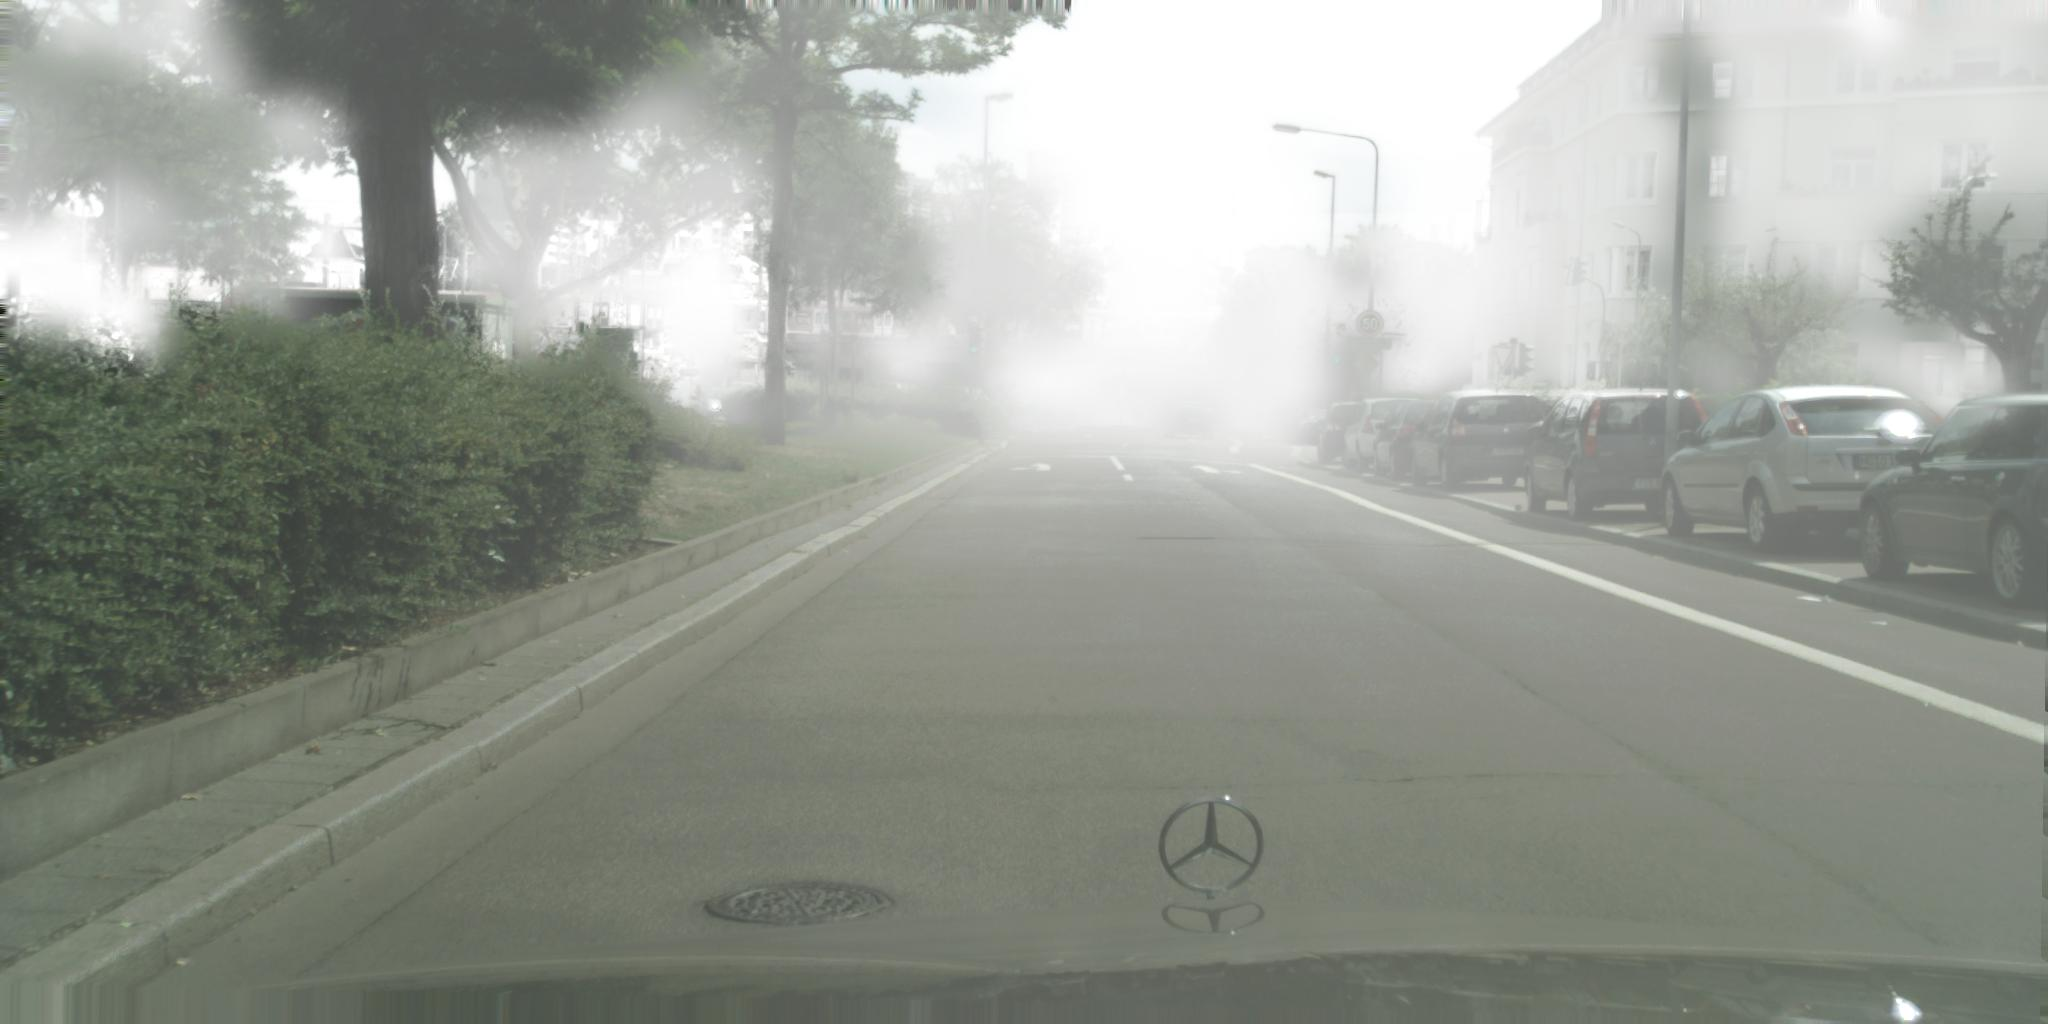car: (1660, 387, 1971, 554), (1859, 393, 2048, 609), (1523, 391, 1733, 522), (1411, 391, 1561, 491), (1339, 398, 1434, 472), (1374, 400, 1451, 481), (1317, 402, 1386, 464), (925, 387, 1014, 432), (1014, 404, 1079, 436), (1164, 400, 1216, 440), (867, 381, 926, 404), (699, 388, 738, 421)
train: (219, 282, 1253, 357)
